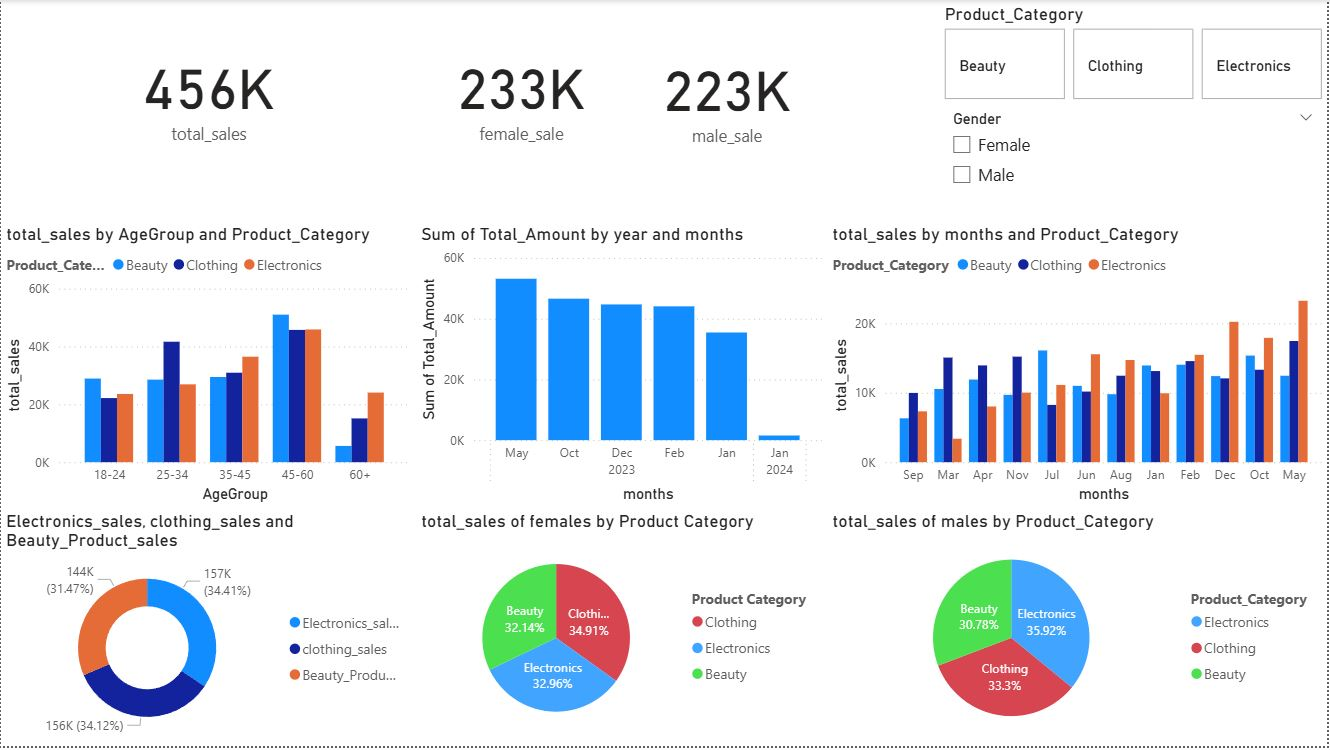

This screenshot's page, from the dashboard's own definition file:
{"tool":"powerbi","page":{"name":"Page 1","canvas":[1280,720],"ordinal":0},"visuals":[{"type":"card","fields":{"Values":["retail_sales_datasetC.total_sales"]},"box":[1.2,0,399.3,181],"z":0},{"type":"lineClusteredColumnComboChart","fields":{"Y":["Sum(retail_sales_datasetC.Total_Amount)"],"Category":["retail_sales_datasetC.year Hierarchy.year","retail_sales_datasetC.year Hierarchy.name_month"]},"box":[400.5,216,396.9,273.9],"z":1000},{"type":"donutChart","fields":{"Y":["retail_sales_datasetC.Electronics_sales","retail_sales_datasetC.clothing_sales","retail_sales_datasetC.Beauty_Product_sales"]},"box":[0,492.2,400.5,228],"z":2000},{"type":"pieChart","fields":{"Category":["retail_sales_datasetC.Product_Category","retail_sales_datasetC.Gender"],"Y":["retail_sales_datasetC.total_sales"]},"box":[797.5,492.2,482.6,228],"z":3000},{"type":"pieChart","fields":{"Category":["retail_sales_datasetC.Product_Category","retail_sales_datasetC.Gender"],"Y":["retail_sales_datasetC.total_sales"]},"box":[400.5,492.2,396.9,228],"z":4000},{"type":"advancedSlicerVisual","fields":{"Values":["retail_sales_datasetC.Product_Category"]},"box":[905.7,4.1,374.6,97.4],"z":5000},{"type":"slicer","fields":{"Values":["retail_sales_datasetC.Gender"]},"box":[906,101.3,372.8,95.3],"z":6000},{"type":"clusteredColumnChart","fields":{"Category":["retail_sales_datasetC.AgeGroup"],"Y":["retail_sales_datasetC.total_sales"],"Series":["retail_sales_datasetC.Product_Category"]},"box":[0,216,400.5,273.9],"z":7000},{"type":"clusteredColumnChart","fields":{"Category":["retail_sales_datasetC.year Hierarchy.year","retail_sales_datasetC.year Hierarchy.name_month"],"Y":["retail_sales_datasetC.total_sales"],"Series":["retail_sales_datasetC.Product_Category"]},"box":[797.5,216,482.6,273.9],"z":8000},{"type":"card","fields":{"Values":["retail_sales_datasetC.female_sale"]},"box":[400.5,0,203.9,181],"z":9000},{"type":"card","fields":{"Values":["retail_sales_datasetC.male_sale"]},"box":[604.4,3.6,193,177.3],"z":10000}]}

Visuals, with their boxes in screenshot pixels (x1, y1, x2, y2), scaled from the page's 1280x720 canvas onto the 1330x750 screenshot:
card - retail_sales_datasetC.total_sales: region(1, 0, 416, 189)
lineClusteredColumnComboChart - Sum(retail_sales_datasetC.Total_Amount) x retail_sales_datasetC.year Hierarchy.year: region(416, 225, 829, 510)
donutChart - retail_sales_datasetC.Electronics_sales x retail_sales_datasetC.clothing_sales: region(0, 513, 416, 749)
pieChart - retail_sales_datasetC.Product_Category x retail_sales_datasetC.Gender: region(829, 513, 1329, 749)
pieChart - retail_sales_datasetC.Product_Category x retail_sales_datasetC.Gender: region(416, 513, 829, 749)
advancedSlicerVisual - retail_sales_datasetC.Product_Category: region(941, 4, 1329, 106)
slicer - retail_sales_datasetC.Gender: region(941, 106, 1329, 205)
clusteredColumnChart - retail_sales_datasetC.AgeGroup x retail_sales_datasetC.total_sales: region(0, 225, 416, 510)
clusteredColumnChart - retail_sales_datasetC.year Hierarchy.year x retail_sales_datasetC.year Hierarchy.name_month: region(829, 225, 1329, 510)
card - retail_sales_datasetC.female_sale: region(416, 0, 628, 189)
card - retail_sales_datasetC.male_sale: region(628, 4, 829, 188)
